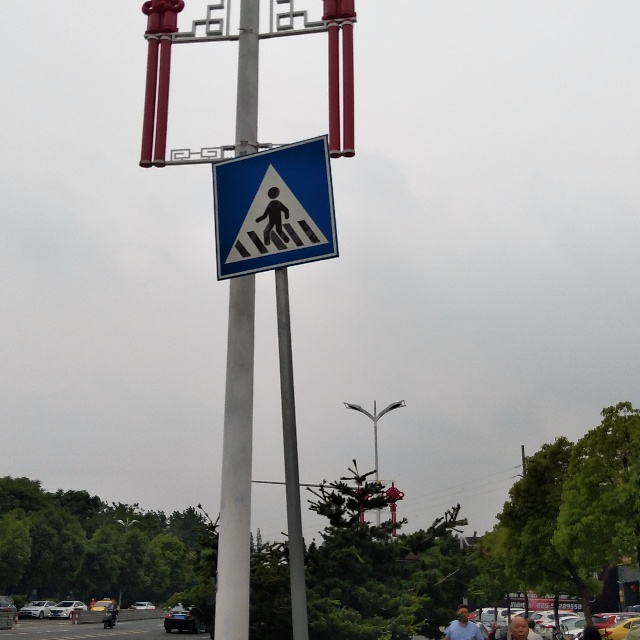crosswalk: (221, 158, 329, 267)
